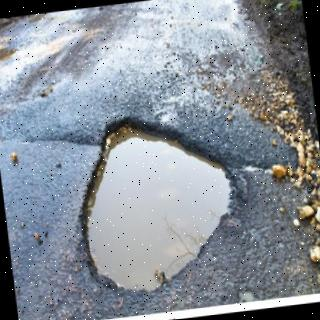pothole: (84, 122, 231, 293)
